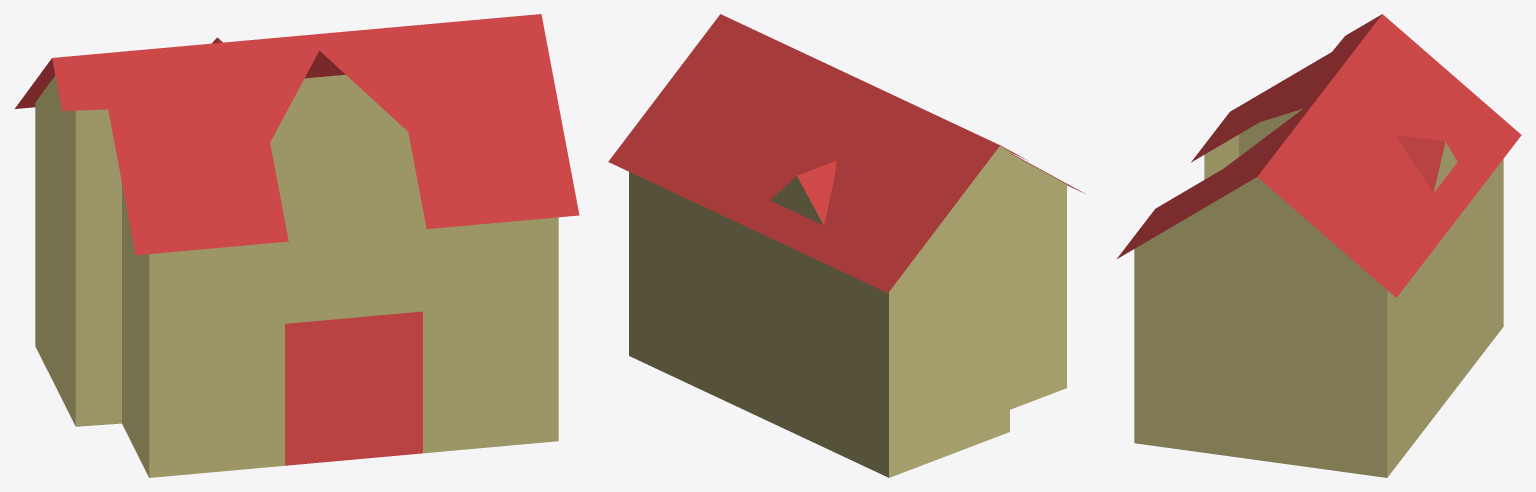
3 renders of one model, left to right at view 1: azimuth 30°, elevation 25°; view 2: azimuth 150°, elevation 25°; view 3: azimuth 270°, elevation 25°, orthographic. The views are drawn at different scales.
Bounding box in the file's own units: 15.56 × 14.24 × 11.22.
